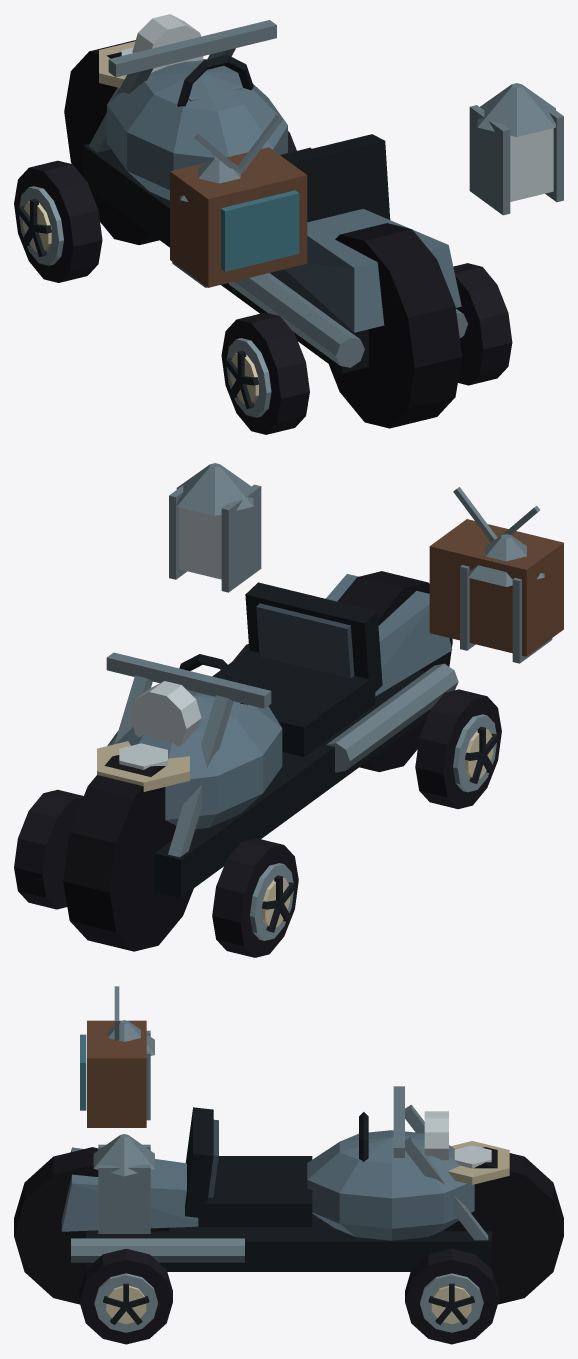
File: kart.glb
The picture shows the model from 3 angles, top to bottom: view 1: azimuth 30°, elevation 25°; view 2: azimuth 150°, elevation 25°; view 3: azimuth 270°, elevation 25°; orthographic projection. The views are drawn at different scales.
Visible parts, largest first — view 1: identity-motorbike-motorbike-tank-and-fork, identity-motorbike-motif-television, identity-motorbike-motif-lanterns, wheel-rear-left, wheel-front-left, identity-motorbike-driver-cockpit, wheel-rear-right, identity-motorbike-motif-badge; view 2: identity-motorbike-motorbike-tank-and-fork, identity-motorbike-driver-cockpit, identity-motorbike-motif-television, identity-motorbike-motif-lanterns, wheel-front-left, wheel-rear-left, wheel-front-right, identity-motorbike-motif-badge; view 3: identity-motorbike-motorbike-tank-and-fork, identity-motorbike-driver-cockpit, wheel-front-right, wheel-rear-right, identity-motorbike-motif-television, identity-motorbike-motif-lanterns, identity-motorbike-motif-badge.
Part boxes in pixels (x1,y1,x2,y2): identity-motorbike-motorbike-tank-and-fork: (64,14,467,428); identity-motorbike-motif-television: (170,114,307,287); identity-motorbike-motif-lanterns: (172,83,563,287); wheel-rear-left: (221,312,309,434); wheel-front-left: (14,160,102,282); identity-motorbike-driver-cockpit: (177,54,390,222); wheel-rear-right: (453,263,512,385); identity-motorbike-motif-badge: (99,41,135,87); identity-motorbike-motorbike-tank-and-fork: (63,571,458,951); identity-motorbike-driver-cockpit: (179,582,382,756); identity-motorbike-motif-television: (429,487,563,656); identity-motorbike-motif-lanterns: (169,463,552,663); wheel-front-left: (212,838,298,957); wheel-rear-left: (415,689,501,809); wheel-front-right: (14,789,83,909); identity-motorbike-motif-badge: (97,741,189,791); identity-motorbike-motorbike-tank-and-fork: (14,1086,563,1304); identity-motorbike-driver-cockpit: (185,1107,368,1227); wheel-front-right: (405,1248,498,1344); wheel-rear-right: (79,1248,172,1344); identity-motorbike-motif-television: (80,986,146,1127); identity-motorbike-motif-lanterns: (93,1020,154,1233); identity-motorbike-motif-badge: (447,1141,509,1184).
Bounding box in the file's own units: 1.82 × 1.46 × 2.94.
